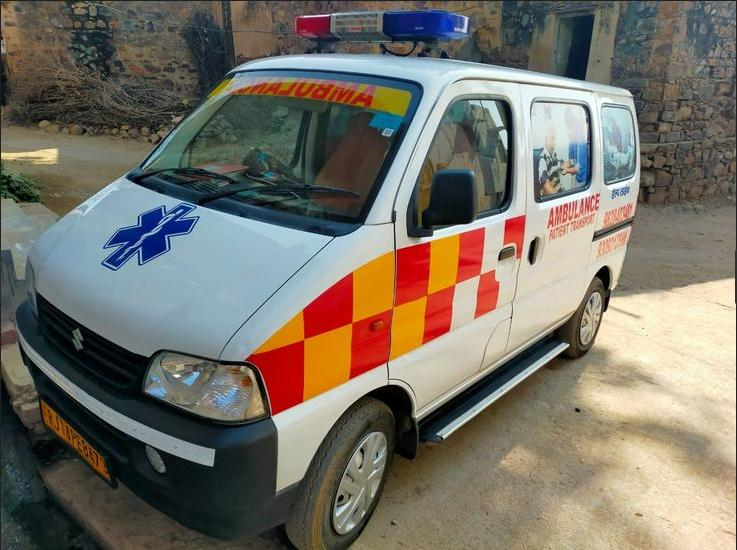ambulance_off: (16, 10, 641, 550)
